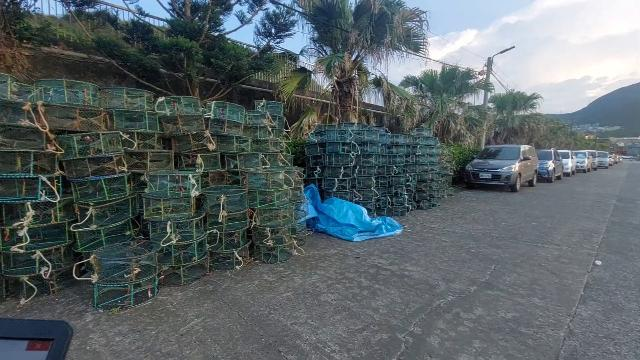pollute: (296, 183, 405, 245)
